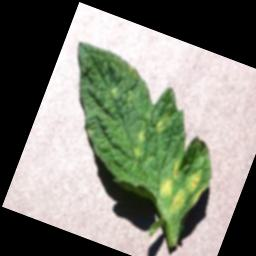Leaf_Mold: (146, 151, 217, 231)
